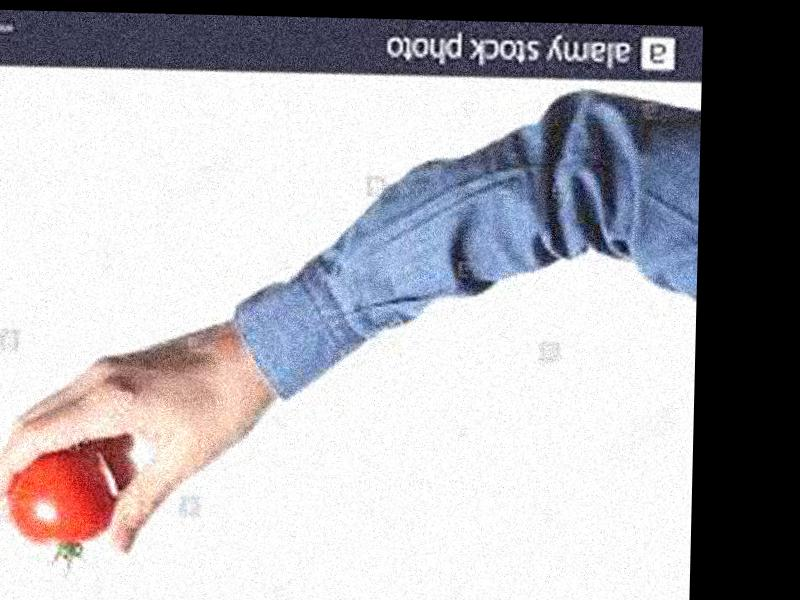Tomato: (6, 453, 112, 543)
